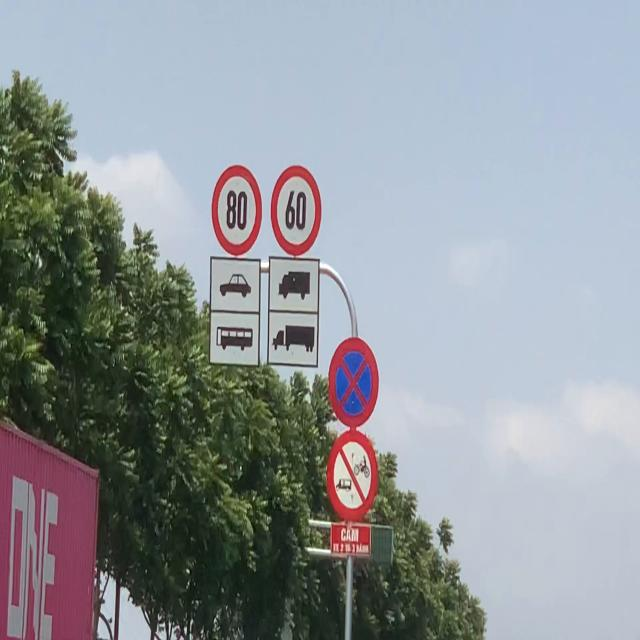Cam con lai: (325, 429, 379, 521)
Cam dung va do: (326, 334, 381, 429)
Toc do toi da: (210, 162, 263, 257), (270, 162, 322, 255)
